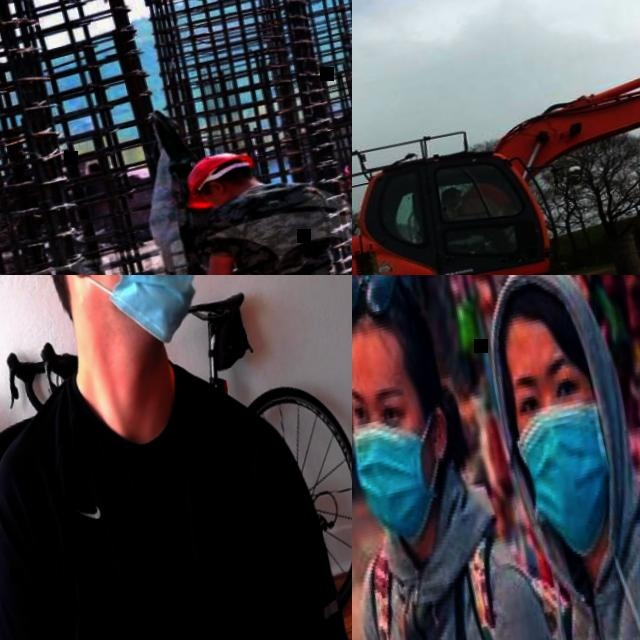Hardhat: (176, 146, 264, 218), (335, 153, 352, 180)
Mask: (510, 396, 630, 565), (352, 414, 447, 554), (49, 275, 207, 359)
NO-Hardhat: (480, 275, 600, 364), (352, 275, 439, 382), (441, 185, 462, 198)
NO-Mask: (203, 188, 235, 213)
NO-Safety Vest: (2, 345, 302, 640), (370, 536, 561, 640), (207, 168, 352, 275), (540, 519, 640, 640)
Person: (0, 275, 352, 640), (352, 275, 597, 640), (464, 275, 640, 640), (172, 127, 352, 275), (436, 175, 518, 267), (333, 152, 352, 244)
machinery: (352, 0, 640, 275)
